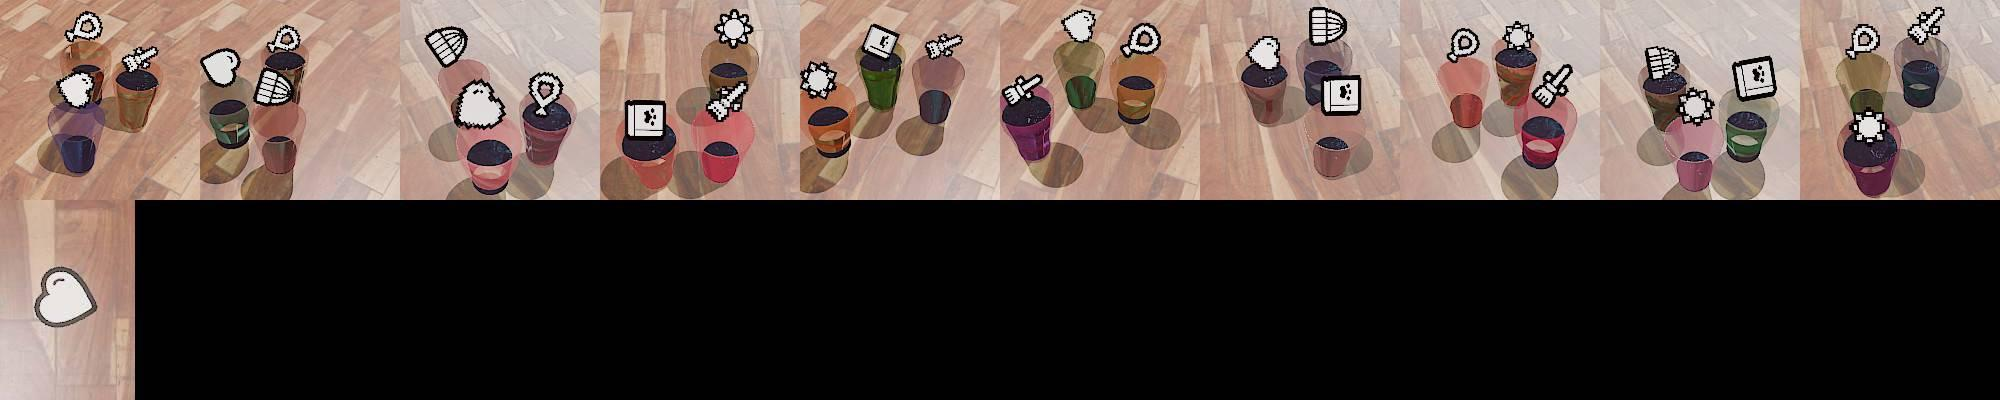icon: (33, 265, 98, 327), (452, 78, 509, 130), (1732, 56, 1776, 103), (1530, 63, 1573, 109), (625, 98, 669, 141), (425, 26, 469, 69), (55, 69, 100, 108), (1321, 75, 1361, 116), (713, 8, 754, 48), (254, 67, 295, 107), (200, 47, 241, 87), (1308, 5, 1348, 46), (706, 81, 748, 120), (525, 70, 564, 112), (860, 23, 901, 62), (1908, 6, 1947, 46), (799, 60, 839, 98), (1677, 88, 1716, 126), (1120, 22, 1161, 58), (1002, 71, 1044, 106), (1245, 34, 1283, 71), (1445, 26, 1481, 63), (1846, 22, 1881, 60), (1645, 45, 1679, 83), (1061, 9, 1097, 43), (65, 11, 103, 43), (1851, 111, 1887, 143), (120, 45, 157, 74), (924, 32, 962, 60), (1502, 20, 1535, 52), (269, 24, 301, 53)
